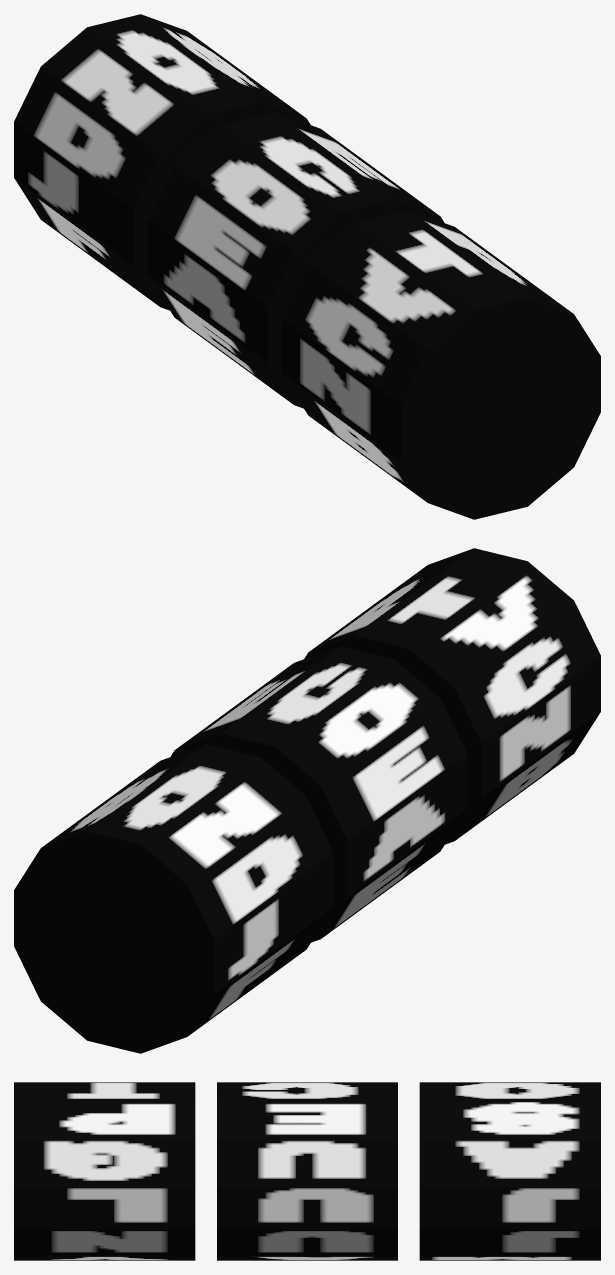
Rendered from Months.glb.
The picture shows the model from 3 angles, top to bottom: view 1: azimuth 30°, elevation 25°; view 2: azimuth 150°, elevation 25°; view 3: azimuth 270°, elevation 25°; orthographic projection. The views are drawn at different scales.
Visible parts, largest first — view 1: Months; view 2: Months; view 3: Months.
Boxes of the visible parts, bbox=[...] form: Months: bbox=[14, 14, 600, 519]; Months: bbox=[14, 548, 600, 1053]; Months: bbox=[14, 1082, 600, 1260].
Size of the model in its own units: 1.93 by 1.93 by 6.48.
Materials: 1 (1 with a texture image).
